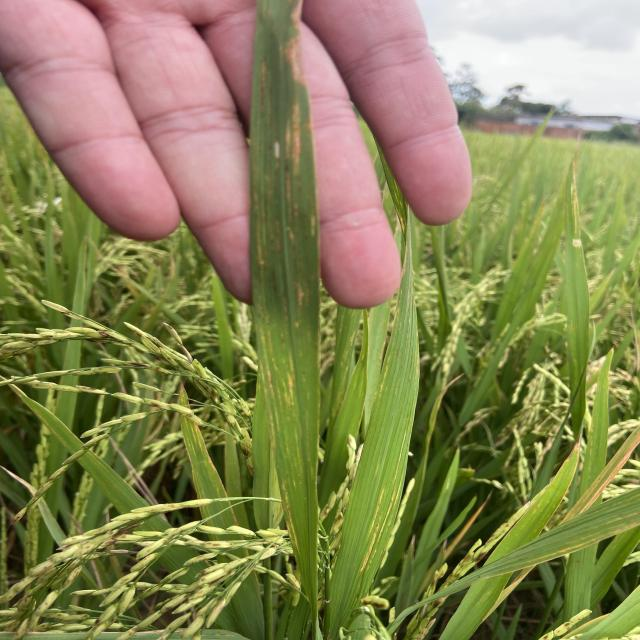Dom soc vi khuan: (359, 512, 383, 573), (283, 120, 293, 224), (367, 488, 385, 539), (284, 491, 299, 550), (292, 102, 302, 176), (264, 363, 275, 400), (259, 61, 267, 108), (190, 427, 196, 444)
